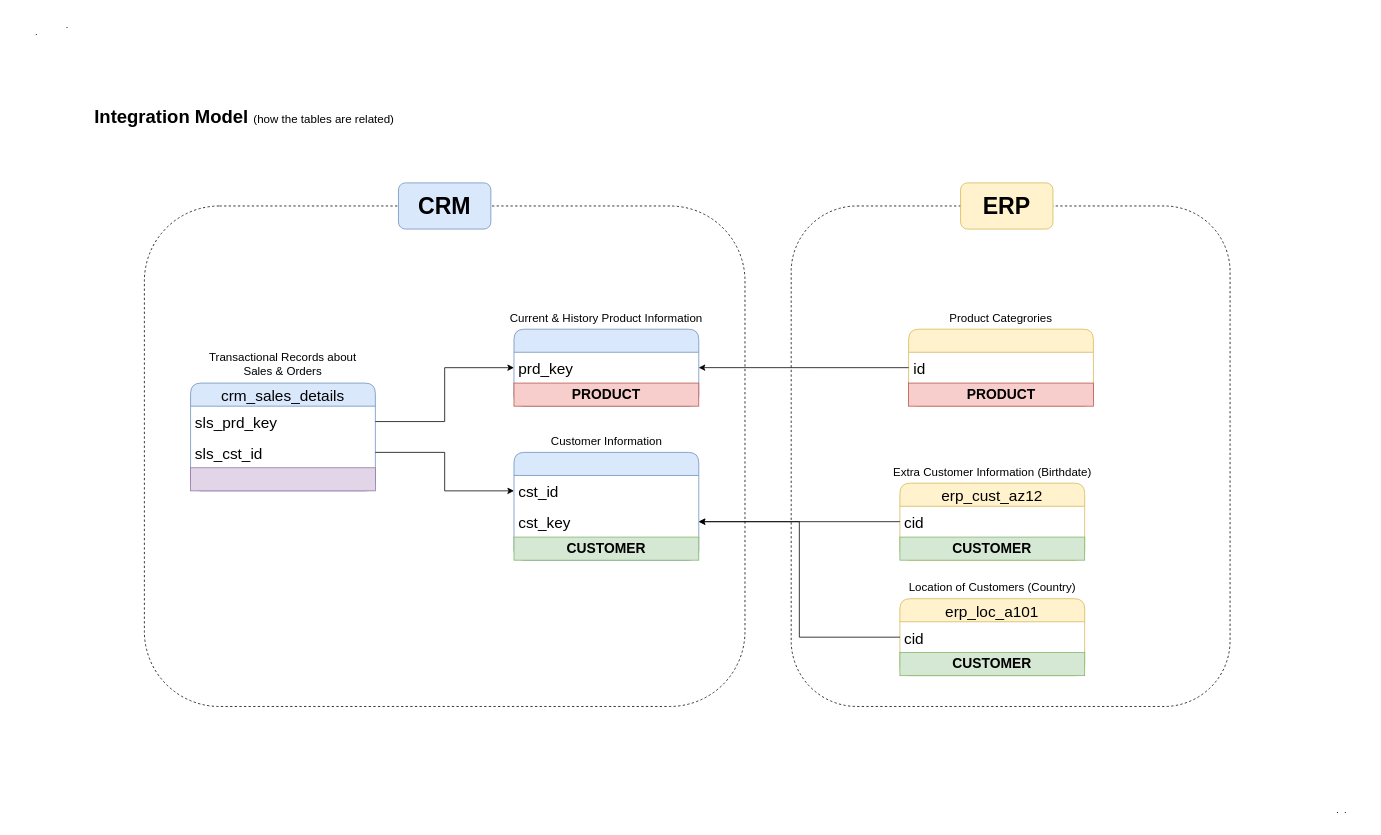
Some shapes in this 1381 by 835 pixel diagram are drawn without their labels. Each missing label, with the box of its shape:
crm_cust_info: (513, 452, 699, 560)
crm_prd_info: (513, 328, 699, 406)
erp_px_cat_g1v2: (908, 328, 1093, 406)
SALES: (190, 467, 375, 491)
